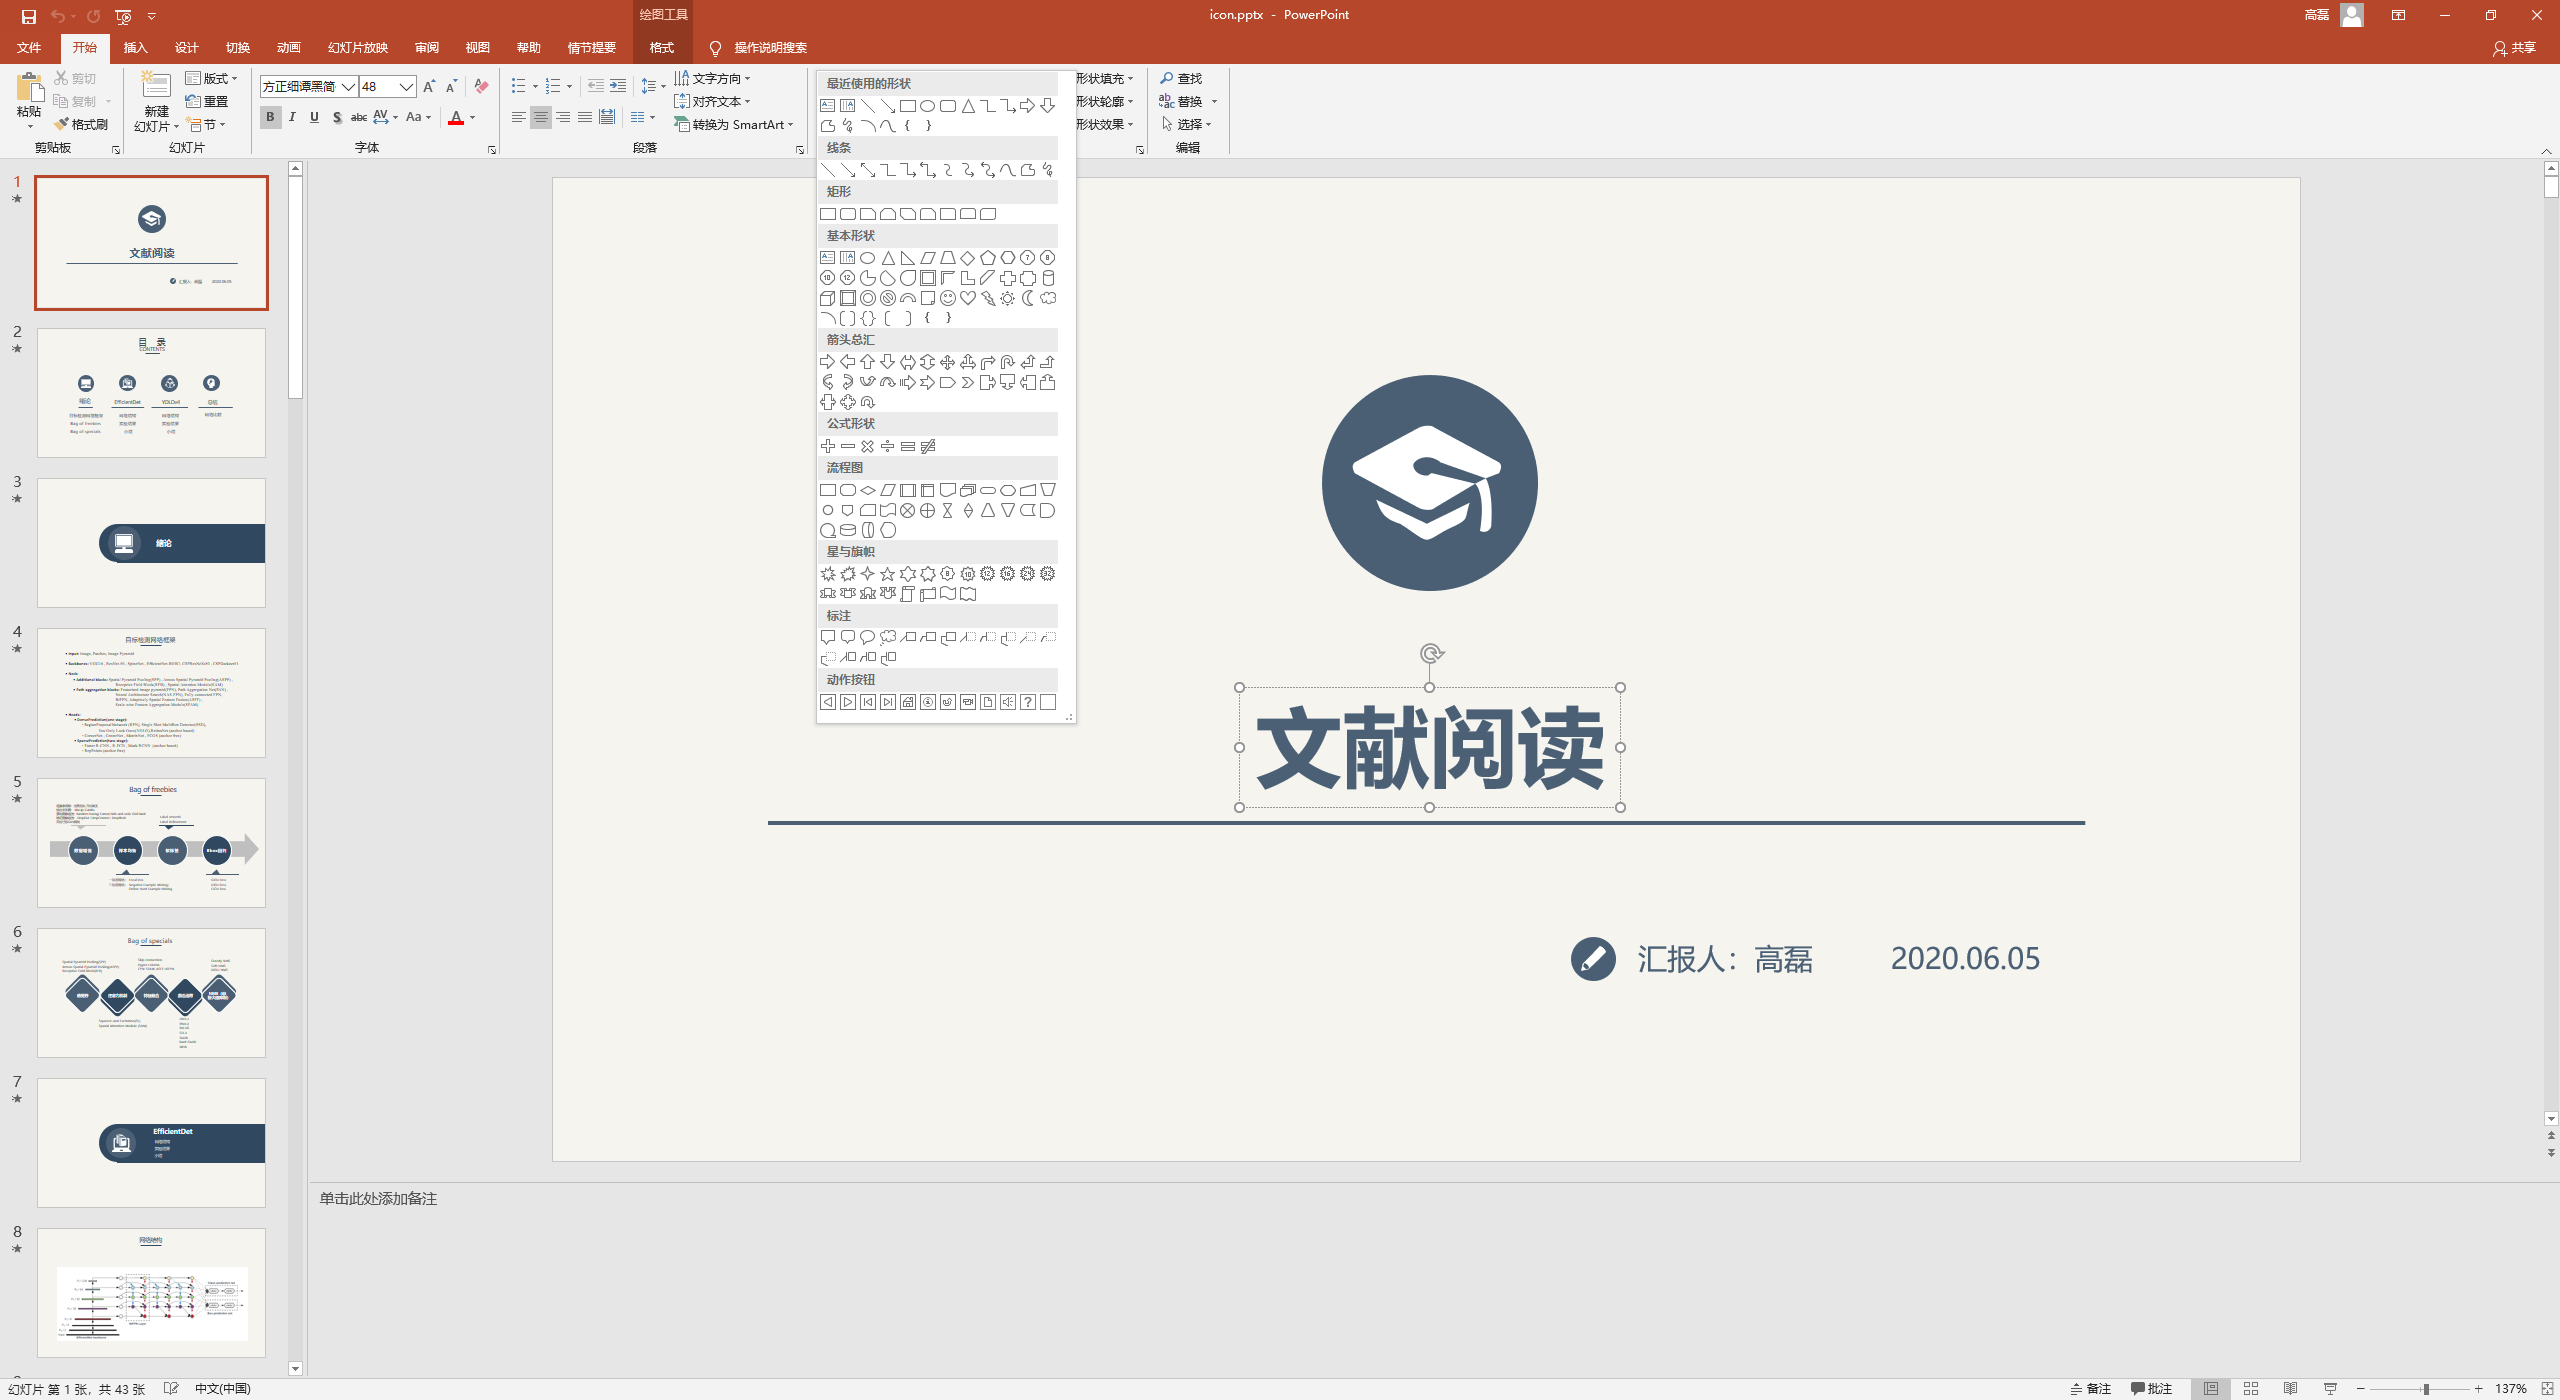character: (1257, 698, 1608, 798), (1639, 943, 1815, 978), (1893, 941, 2046, 972), (317, 1186, 440, 1210), (1208, 7, 1365, 24), (7, 1383, 148, 1397), (829, 76, 917, 91), (696, 117, 784, 131), (736, 40, 812, 53), (267, 78, 333, 93), (565, 38, 619, 57), (826, 672, 881, 690), (328, 40, 395, 53), (191, 1383, 255, 1397), (826, 545, 877, 560), (134, 107, 167, 131), (638, 3, 688, 19), (826, 333, 877, 347), (1077, 71, 1122, 86), (827, 228, 877, 241), (691, 95, 740, 109), (1076, 117, 1122, 131), (276, 40, 307, 59), (827, 417, 876, 429), (36, 140, 72, 155), (1076, 95, 1122, 107), (2303, 3, 2331, 22), (696, 72, 740, 84), (824, 462, 874, 472), (822, 607, 855, 622), (74, 117, 110, 131), (2494, 1381, 2531, 1395), (14, 40, 45, 55), (352, 140, 383, 155), (122, 40, 150, 57), (174, 40, 202, 57), (462, 41, 495, 55), (824, 184, 857, 198), (2086, 1379, 2112, 1397), (72, 40, 100, 55), (826, 138, 853, 153), (1177, 69, 1205, 84), (2148, 1381, 2176, 1397), (409, 41, 441, 53), (167, 141, 205, 152), (648, 40, 676, 53), (202, 95, 229, 109), (633, 140, 660, 153), (1176, 141, 1203, 155), (517, 40, 541, 55), (71, 72, 98, 84), (226, 41, 253, 53), (2512, 41, 2539, 53), (7, 472, 28, 488), (405, 103, 421, 122), (205, 71, 228, 83), (1179, 95, 1202, 107), (1177, 117, 1200, 129), (9, 622, 26, 638), (16, 107, 41, 116), (362, 79, 378, 93), (72, 97, 97, 105), (10, 771, 22, 786), (12, 1221, 22, 1238), (14, 172, 26, 186), (12, 922, 24, 936), (10, 1072, 22, 1086), (205, 117, 215, 129), (14, 322, 21, 336)
icon: (31, 324, 264, 453), (33, 481, 265, 610), (34, 624, 267, 753), (36, 776, 269, 905), (33, 929, 265, 1059), (34, 1231, 267, 1360), (34, 176, 267, 303), (40, 1078, 272, 1205), (1352, 421, 1503, 548), (140, 67, 172, 98), (16, 71, 47, 103), (1577, 945, 1607, 971), (2339, 3, 2363, 26), (1420, 641, 1445, 664), (2200, 1378, 2226, 1398), (259, 107, 283, 128), (529, 107, 552, 128), (2279, 1379, 2303, 1397), (396, 76, 415, 97), (17, 7, 38, 26), (114, 7, 133, 28), (607, 76, 628, 95), (671, 67, 691, 86), (509, 74, 528, 95), (584, 76, 605, 95), (545, 74, 564, 95), (347, 109, 369, 126), (283, 107, 302, 126), (328, 109, 347, 128), (305, 109, 324, 128), (371, 107, 390, 126), (576, 107, 595, 126), (446, 109, 465, 128), (640, 76, 659, 95), (838, 303, 857, 322), (819, 691, 838, 710), (183, 69, 202, 86), (183, 91, 202, 109), (672, 114, 690, 133), (672, 91, 691, 109), (509, 109, 528, 126), (628, 107, 646, 124), (596, 109, 615, 126), (919, 160, 938, 178), (2491, 40, 2508, 59), (998, 95, 1015, 114), (958, 352, 977, 369), (938, 564, 957, 581), (998, 564, 1015, 583), (1019, 564, 1036, 583), (960, 628, 979, 645), (860, 691, 877, 710), (998, 693, 1015, 712), (2243, 1379, 2262, 1397), (896, 566, 917, 581), (217, 116, 234, 133), (472, 78, 490, 95), (879, 269, 896, 286), (919, 269, 936, 286), (898, 269, 915, 286), (840, 97, 857, 114), (859, 269, 876, 286), (940, 267, 957, 284), (877, 117, 895, 134), (940, 97, 957, 114), (998, 372, 1015, 390), (979, 372, 996, 390), (979, 248, 996, 266), (1000, 248, 1017, 266), (898, 353, 915, 371), (958, 160, 976, 178), (1158, 69, 1176, 86), (2389, 5, 2407, 22), (2527, 5, 2544, 22), (879, 521, 896, 538), (940, 629, 957, 647), (898, 584, 915, 602), (919, 438, 936, 455), (859, 521, 876, 538), (162, 1379, 179, 1397), (2539, 1379, 2557, 1397), (921, 566, 938, 583), (960, 566, 977, 583), (979, 566, 996, 583), (1040, 566, 1057, 583), (919, 353, 936, 371), (841, 693, 859, 710), (979, 693, 996, 710), (338, 78, 357, 93), (838, 310, 857, 326), (840, 586, 859, 602), (860, 628, 876, 647), (859, 648, 877, 664), (84, 9, 102, 24), (48, 9, 66, 24), (707, 40, 722, 57), (553, 109, 571, 124), (859, 290, 876, 305), (840, 290, 857, 305), (840, 269, 857, 284), (879, 290, 896, 305), (898, 205, 915, 221), (859, 162, 876, 178), (840, 205, 857, 221), (859, 98, 876, 114), (898, 98, 915, 114), (819, 97, 836, 112), (859, 250, 876, 266), (898, 250, 915, 266), (940, 290, 957, 305), (840, 162, 857, 178), (898, 290, 915, 305), (977, 269, 995, 284), (958, 269, 976, 284), (819, 290, 836, 305), (840, 250, 857, 266), (819, 269, 836, 284), (819, 205, 836, 221), (958, 250, 976, 266), (940, 374, 957, 390), (898, 374, 915, 390), (979, 205, 996, 221), (879, 162, 896, 178), (840, 372, 855, 390), (859, 353, 876, 369), (958, 290, 976, 305), (840, 353, 857, 369), (1021, 248, 1036, 266), (979, 160, 995, 178), (840, 393, 857, 409), (940, 353, 955, 371), (1040, 290, 1057, 305), (1040, 372, 1055, 390), (1040, 248, 1055, 266), (1157, 91, 1174, 107), (2482, 5, 2500, 21), (879, 502, 896, 517), (898, 502, 915, 517), (819, 522, 836, 538), (879, 584, 896, 600), (821, 650, 838, 666), (840, 628, 855, 645), (919, 586, 936, 602), (940, 584, 957, 600), (958, 584, 976, 600), (1040, 695, 1057, 710), (2129, 1381, 2146, 1397), (2322, 1379, 2338, 1397), (979, 98, 996, 114), (1019, 95, 1034, 112), (819, 391, 834, 409), (860, 436, 876, 453), (821, 566, 838, 581), (841, 566, 857, 583), (879, 567, 896, 583), (843, 648, 859, 666), (53, 69, 67, 88), (977, 353, 996, 367), (286, 160, 302, 176), (443, 79, 459, 95), (921, 205, 936, 221), (821, 117, 836, 133), (879, 205, 895, 221), (919, 98, 934, 114), (879, 98, 895, 114), (879, 250, 895, 266), (860, 117, 876, 133), (860, 205, 876, 221), (860, 310, 876, 326), (940, 205, 955, 221), (879, 374, 895, 390), (960, 374, 976, 390), (940, 250, 955, 266), (960, 98, 976, 114), (821, 162, 836, 178), (919, 374, 934, 390), (1000, 353, 1015, 369), (1021, 271, 1036, 286), (879, 353, 895, 369), (1021, 374, 1036, 390), (1019, 290, 1034, 305), (902, 162, 917, 178), (819, 353, 834, 369), (1021, 353, 1036, 369), (979, 290, 995, 305), (1158, 116, 1174, 131), (9, 490, 24, 505), (919, 502, 934, 517), (900, 483, 915, 498), (860, 502, 876, 517), (979, 502, 995, 517), (881, 650, 896, 666), (1000, 629, 1015, 645), (1021, 629, 1036, 645), (960, 502, 976, 517), (879, 438, 895, 453), (960, 695, 976, 710), (900, 629, 915, 645), (879, 629, 895, 645), (900, 695, 915, 710), (1000, 502, 1015, 517), (9, 790, 24, 805), (1612, 740, 1627, 755), (9, 1240, 24, 1255), (2069, 1381, 2084, 1397), (2353, 1381, 2369, 1397), (53, 116, 71, 129), (188, 116, 202, 133), (958, 205, 976, 219), (821, 310, 838, 324), (998, 271, 1015, 284), (1041, 269, 1055, 286), (1040, 160, 1053, 178), (1040, 97, 1053, 114), (940, 483, 957, 497), (879, 483, 896, 497), (840, 483, 857, 497), (958, 483, 976, 497), (979, 483, 996, 497), (840, 522, 857, 536), (998, 483, 1015, 497), (840, 438, 857, 452), (821, 628, 834, 645), (1002, 160, 1015, 178), (1002, 290, 1015, 307), (859, 566, 872, 583), (819, 586, 836, 600), (52, 93, 67, 107), (422, 78, 436, 93), (921, 290, 934, 305), (840, 117, 853, 133), (921, 250, 934, 266), (860, 395, 876, 409), (860, 372, 876, 386), (1021, 162, 1034, 178), (1040, 353, 1053, 369), (2438, 7, 2451, 22), (2539, 145, 2555, 159), (860, 483, 876, 497), (940, 502, 953, 517), (821, 483, 836, 497), (900, 440, 915, 453), (821, 436, 834, 452), (1021, 502, 1034, 517), (921, 629, 936, 643), (881, 695, 895, 710), (1021, 695, 1036, 709), (1040, 502, 1053, 517), (1040, 483, 1055, 497), (1614, 679, 1627, 695), (9, 940, 22, 955), (2544, 1110, 2558, 1126), (2419, 1381, 2432, 1397), (422, 110, 434, 128), (821, 372, 833, 390), (102, 93, 116, 107), (9, 190, 22, 203), (9, 341, 22, 355), (145, 9, 159, 22), (821, 250, 834, 264), (1207, 95, 1221, 109), (1133, 141, 1146, 155), (9, 641, 22, 655), (921, 483, 934, 497), (940, 695, 953, 709), (921, 695, 934, 709), (821, 502, 834, 516), (983, 629, 996, 643), (840, 503, 853, 517), (1233, 679, 1246, 693), (1233, 740, 1246, 753), (1422, 800, 1436, 814), (1614, 800, 1627, 814), (288, 1360, 302, 1374), (9, 1090, 22, 1103), (564, 79, 576, 95), (941, 162, 953, 178), (881, 310, 893, 326), (1126, 93, 1138, 109), (1041, 629, 1057, 641), (529, 78, 540, 95), (67, 9, 79, 22), (22, 117, 36, 129), (465, 110, 478, 124), (900, 119, 914, 131), (921, 310, 933, 324), (2544, 160, 2557, 174), (1064, 710, 1076, 724), (1422, 681, 1436, 693), (1233, 802, 1246, 814), (903, 310, 914, 326), (110, 143, 122, 155), (486, 143, 498, 155), (922, 119, 934, 131), (2472, 1383, 2484, 1395), (229, 71, 240, 84), (171, 117, 181, 131), (646, 110, 657, 124), (1203, 117, 1214, 131), (1126, 117, 1136, 131), (391, 109, 400, 124), (943, 310, 953, 322), (1126, 72, 1136, 84), (2546, 1147, 2557, 1159), (2546, 1128, 2557, 1140), (795, 145, 805, 155), (745, 74, 752, 83), (745, 97, 750, 103), (660, 83, 665, 90), (788, 122, 793, 128)
